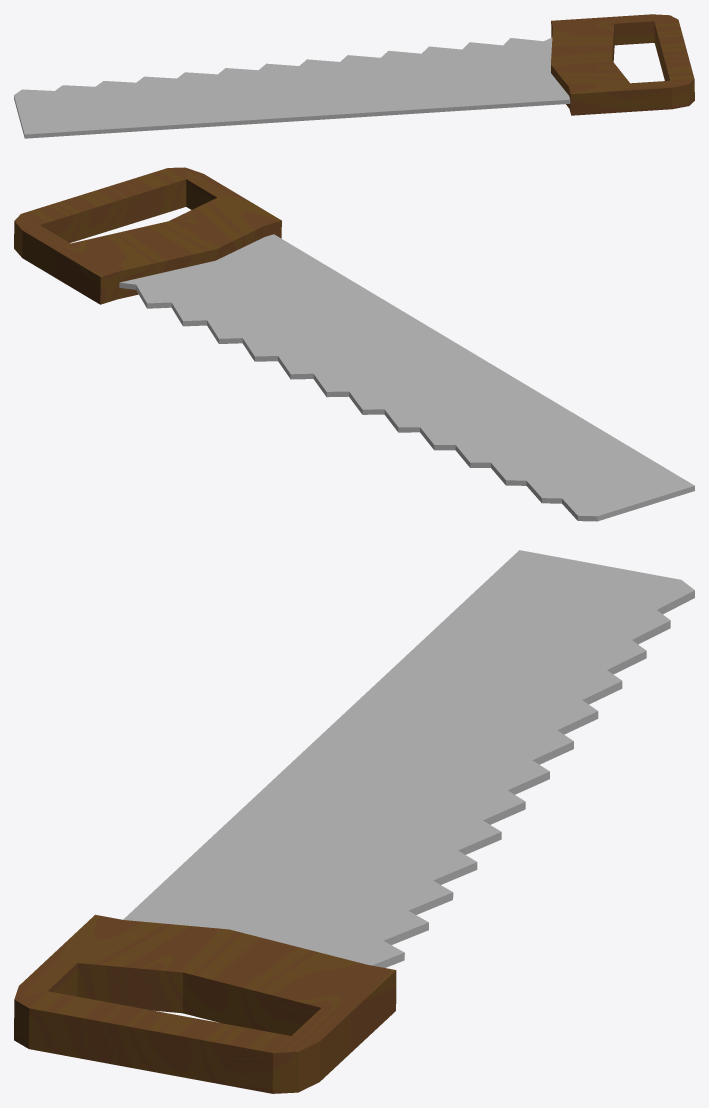
The model's file is Saw.glb.
3 views of the same model, one above another, from view 1: azimuth 30°, elevation 25°; view 2: azimuth 150°, elevation 25°; view 3: azimuth 270°, elevation 25° (orthographic). The views are drawn at different scales.
Parts seen in each view (by area): view 1: Saw, Saw.handle; view 2: Saw, Saw.handle; view 3: Saw, Saw.handle.
Part boxes in pixels (left/top/right/bottom): Saw: left=14, top=37, right=570, bottom=138; Saw.handle: left=551, top=14, right=694, bottom=115; Saw: left=119, top=234, right=694, bottom=521; Saw.handle: left=14, top=167, right=281, bottom=304; Saw: left=123, top=550, right=694, bottom=967; Saw.handle: left=14, top=914, right=396, bottom=1093.
Bounding box in the file's own units: 5.07 × 0.1954 × 2.71.
2 materials, 1 textured.
